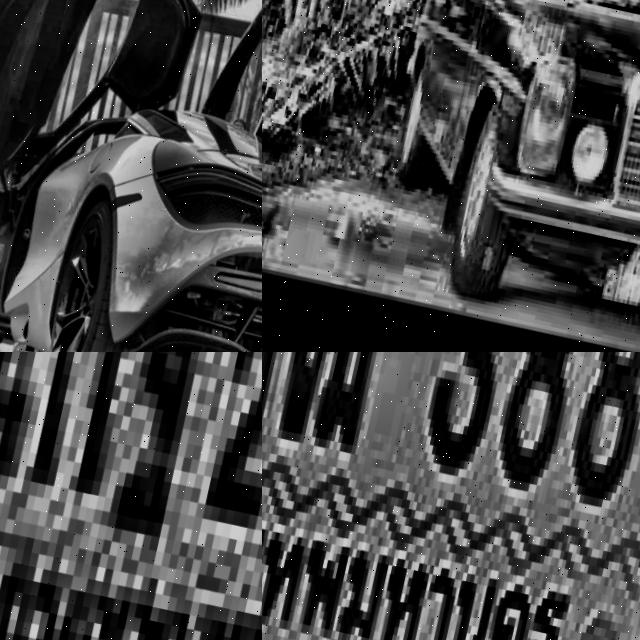license-plate: (262, 352, 640, 640), (0, 352, 262, 640), (610, 238, 640, 322)
